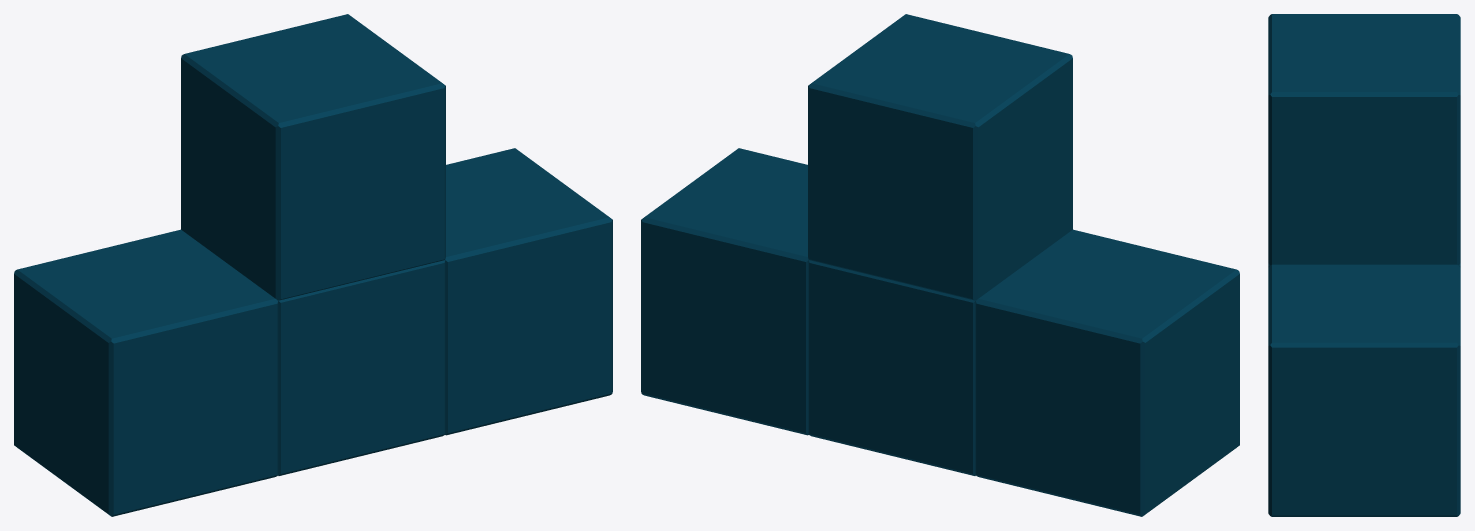
File: item1.FBX
3 renders of one model, left to right at view 1: azimuth 30°, elevation 25°; view 2: azimuth 150°, elevation 25°; view 3: azimuth 270°, elevation 25°, orthographic. The views are drawn at different scales.
Visible parts, largest first — view 1: item1; view 2: item1; view 3: item1.
Boxes of the visible parts, x1,y1,x2,y2 form: item1: (14, 14, 612, 516); item1: (641, 14, 1239, 516); item1: (1268, 14, 1460, 516).
Bounding box in the file's own units: 30.2 × 20.2 × 10.2.
